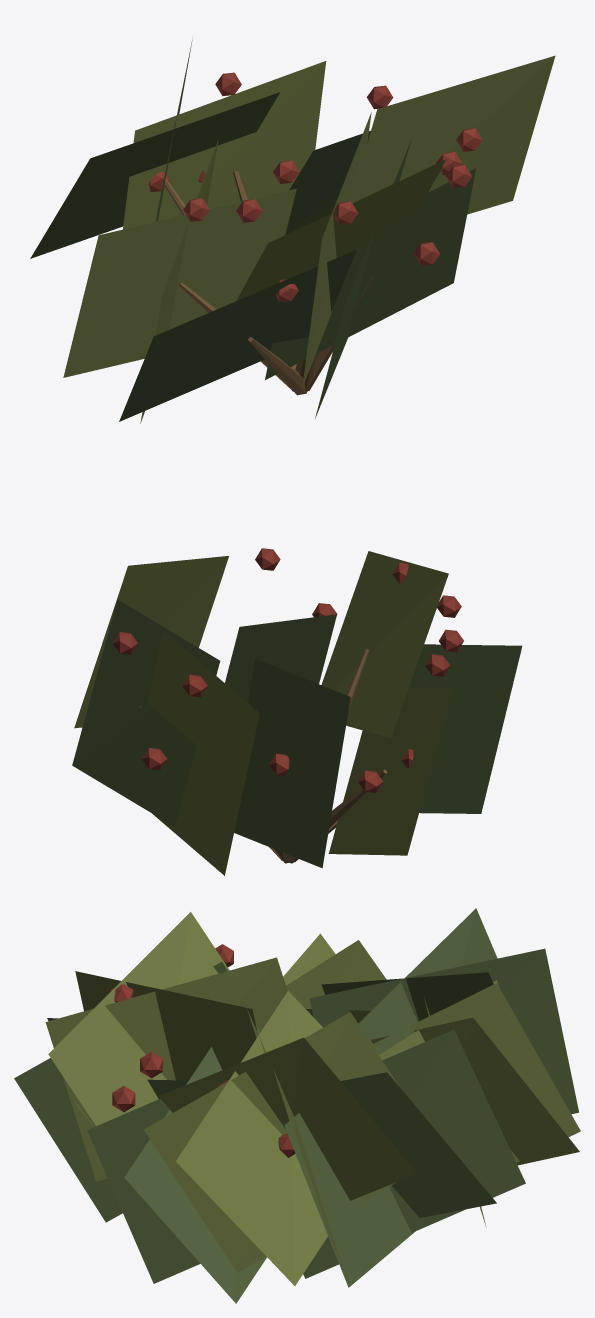
File: berry_bush.glb
The picture shows the model from 3 angles, top to bottom: view 1: azimuth 30°, elevation 25°; view 2: azimuth 150°, elevation 25°; view 3: azimuth 270°, elevation 25°; orthographic projection. The views are drawn at different scales.
Parts seen in each view (by area): view 1: city-details/berry_bush; view 2: city-details/berry_bush; view 3: city-details/berry_bush.
Boxes of the visible parts, x1=… form: city-details/berry_bush: x1=30, y1=37, x2=555, y2=423; city-details/berry_bush: x1=72, y1=548, x2=522, y2=875; city-details/berry_bush: x1=14, y1=908, x2=580, y2=1303.
Size of the model in its own units: 1.96 by 1.26 by 1.98.
